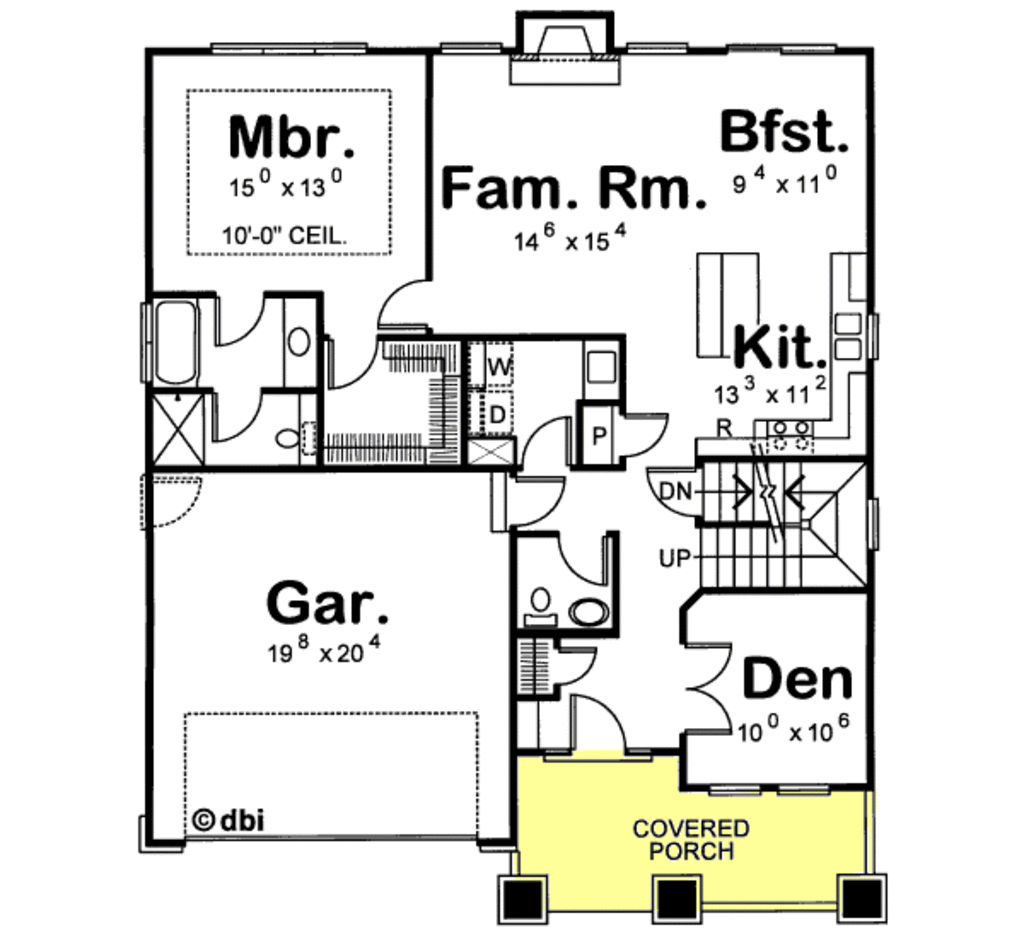door: (676, 630, 742, 736), (558, 690, 645, 770), (644, 462, 716, 532), (482, 472, 564, 533), (133, 470, 212, 530), (372, 269, 439, 332), (609, 396, 669, 462), (511, 412, 578, 471), (323, 330, 377, 397), (208, 289, 269, 346), (558, 529, 613, 586), (212, 384, 265, 441), (553, 635, 598, 692)
large_sink: (272, 408, 334, 463), (512, 570, 557, 626)
small_sink: (281, 290, 324, 393), (568, 585, 623, 632)
stairs: (698, 444, 865, 589)
tub: (142, 297, 206, 394)
twin_sink: (822, 301, 875, 365)
window: (199, 36, 371, 63), (771, 771, 834, 801), (707, 775, 773, 801), (860, 496, 884, 548)
